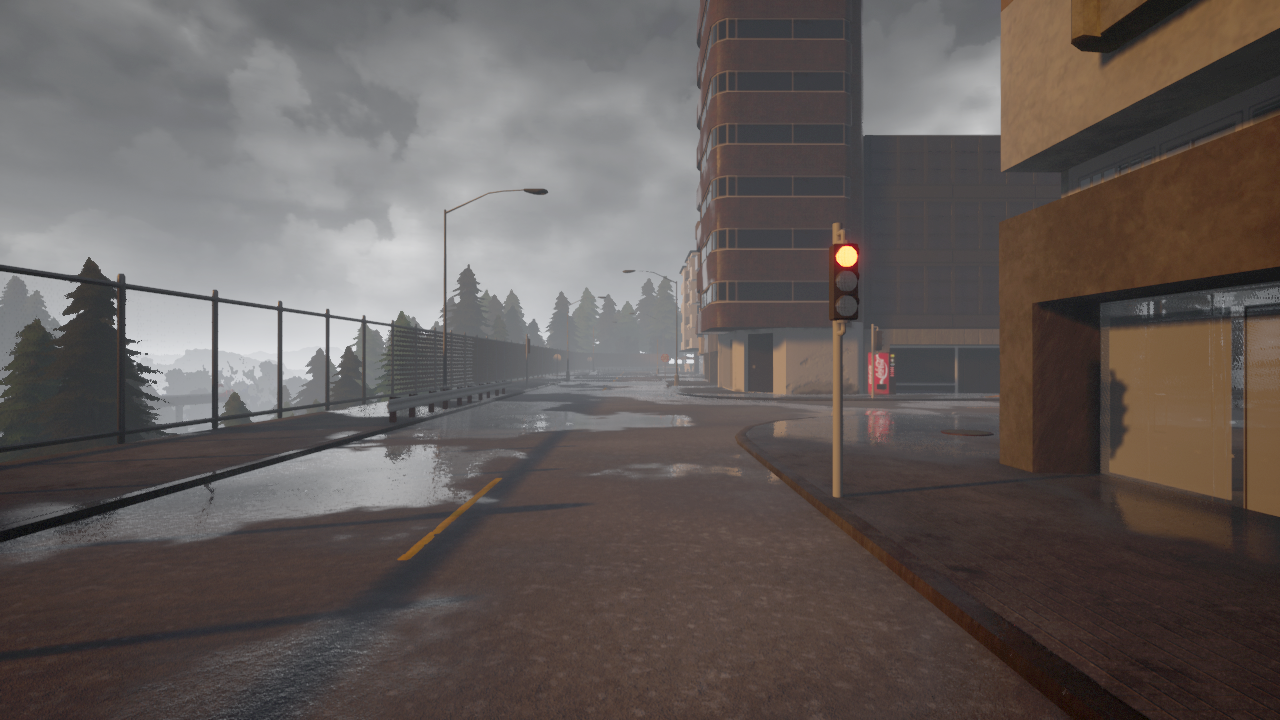red: (825, 243, 860, 320)
